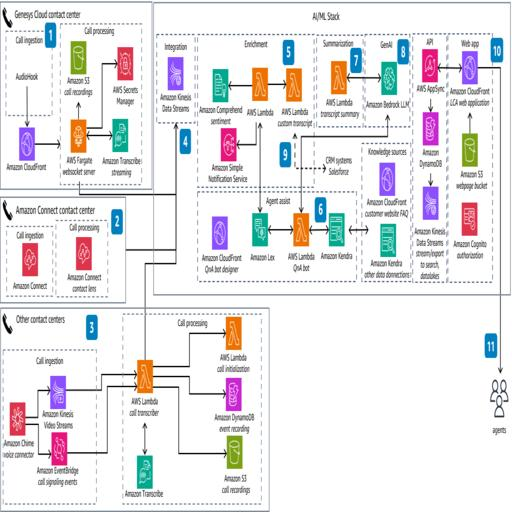actor: (488, 375, 510, 413)
api_gateway: (498, 120, 500, 350), (257, 101, 260, 232), (78, 192, 173, 196), (386, 94, 390, 168), (174, 94, 176, 230), (226, 185, 290, 189), (143, 276, 146, 350), (125, 249, 174, 253), (468, 86, 472, 132), (25, 74, 28, 128), (184, 326, 220, 330), (184, 390, 220, 394), (184, 451, 220, 455), (146, 312, 180, 316), (468, 166, 472, 198), (144, 392, 148, 422), (70, 390, 98, 394), (157, 352, 185, 356), (157, 390, 185, 394), (78, 76, 81, 112), (349, 76, 376, 80), (90, 62, 113, 66), (226, 102, 230, 125), (78, 164, 81, 194), (354, 228, 374, 232), (400, 228, 420, 232), (92, 127, 111, 131), (92, 140, 111, 144), (304, 76, 323, 80), (38, 142, 56, 146), (228, 82, 246, 86), (238, 144, 256, 148), (440, 66, 458, 70), (70, 446, 88, 450), (116, 372, 134, 376), (116, 434, 134, 438), (428, 146, 430, 177), (24, 417, 39, 421), (300, 156, 302, 184), (428, 86, 430, 112), (270, 82, 282, 86), (312, 228, 324, 232), (56, 412, 59, 426), (279, 228, 289, 232)
compute: (418, 51, 440, 84)
data_flow: (6, 402, 30, 436), (254, 242, 278, 275), (458, 51, 482, 84), (216, 130, 240, 162), (458, 204, 482, 236), (134, 420, 158, 452), (134, 358, 158, 390), (109, 119, 132, 152), (46, 375, 69, 408), (208, 70, 230, 104), (15, 130, 38, 162), (114, 48, 137, 80), (375, 162, 398, 194), (46, 432, 69, 464), (168, 213, 190, 246), (164, 375, 186, 408), (164, 457, 186, 490)
database_storage: (280, 68, 304, 101), (68, 119, 91, 152), (247, 68, 270, 101), (324, 62, 347, 94), (290, 213, 312, 246), (222, 311, 244, 344)
network_security: (458, 133, 482, 166), (68, 42, 91, 76), (376, 62, 400, 94), (324, 213, 347, 246), (375, 224, 398, 257), (418, 112, 440, 146), (222, 436, 244, 470), (222, 375, 244, 408), (164, 58, 186, 90), (418, 186, 440, 218)
trust_boundary: (156, 4, 508, 293), (2, 307, 266, 507), (3, 3, 151, 190), (2, 196, 122, 301)
